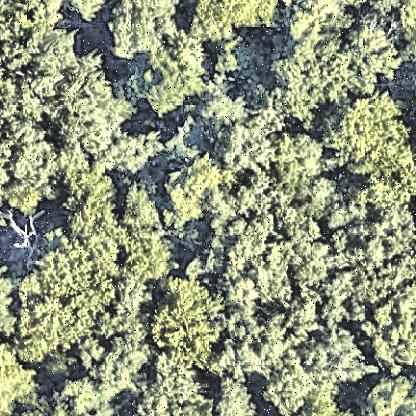tree-top: (13, 238, 155, 362), (272, 23, 396, 112), (326, 196, 416, 305), (328, 92, 413, 199), (1, 32, 101, 118), (201, 224, 303, 308), (215, 297, 306, 373), (133, 35, 211, 115), (150, 276, 222, 362), (63, 60, 127, 156), (3, 123, 63, 216), (163, 151, 222, 225), (102, 4, 176, 62), (216, 117, 276, 181), (313, 323, 370, 389), (94, 331, 152, 394), (272, 129, 330, 189), (123, 219, 177, 283), (262, 364, 328, 416), (191, 1, 283, 38), (58, 173, 117, 225), (145, 353, 201, 407), (377, 296, 416, 372), (111, 126, 165, 176), (2, 1, 62, 45), (1, 346, 38, 411), (119, 178, 165, 229), (201, 86, 255, 128), (362, 373, 414, 416), (293, 242, 337, 292), (57, 378, 112, 416), (289, 1, 366, 27), (213, 377, 257, 416), (2, 276, 22, 345), (63, 1, 117, 24), (367, 1, 412, 23), (397, 2, 416, 48)
